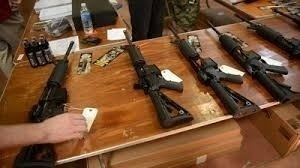pistol: (118, 30, 178, 121), (26, 35, 84, 127), (182, 49, 239, 122)
